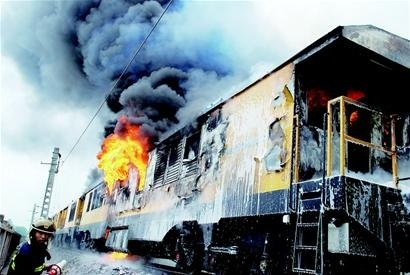fire: (97, 126, 148, 192)
